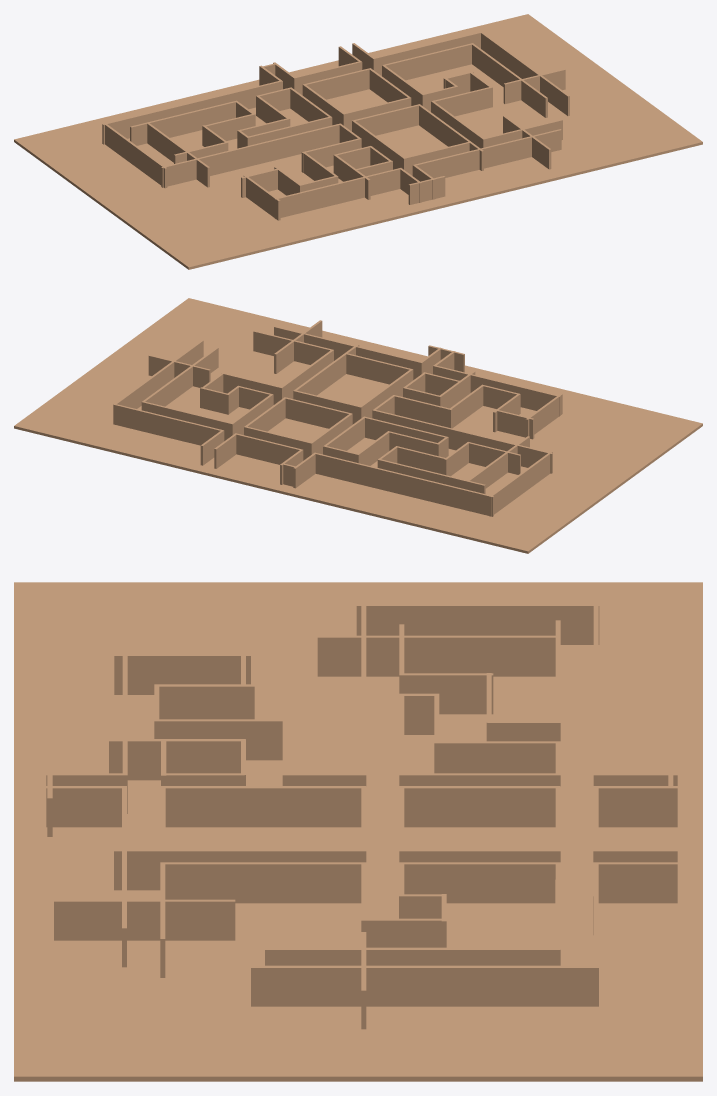
The model's file is Maze.fbx.
3 views of the same model, one above another, from view 1: azimuth 30°, elevation 25°; view 2: azimuth 150°, elevation 25°; view 3: azimuth 270°, elevation 25° (orthographic). The views are drawn at different scales.
Parts seen in each view (by area): view 1: Cube, maze; view 2: Cube, maze; view 3: Cube, maze.
Part boxes in pixels (x1,y1,x2,y2): Cube: (14,14,702,269); maze: (102,31,569,220); Cube: (14,298,702,553); maze: (113,320,562,516); Cube: (14,582,702,1081); maze: (46,602,677,1029).
Bounding box in the file's own units: 23100 × 957 × 13600.
